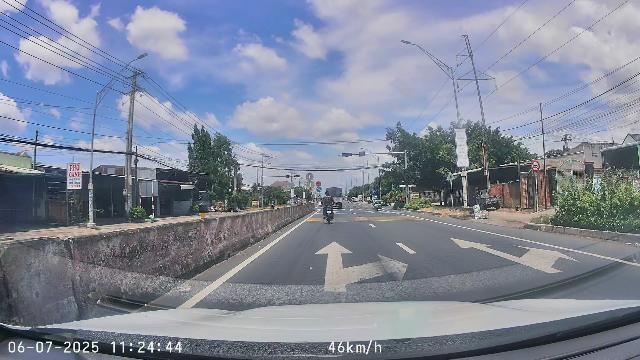102-cam-di-nguoc-chieu: (316, 181, 321, 187)
103a-cam-oto: (531, 160, 540, 172)
302a-huong-phai-di-vong-chuong-ngai-vat-1: (316, 187, 322, 192)
